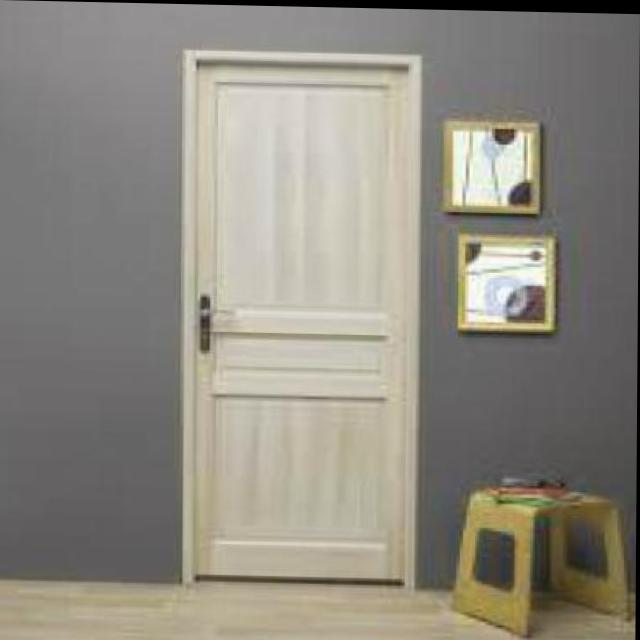door_handle: (195, 304, 243, 322)
